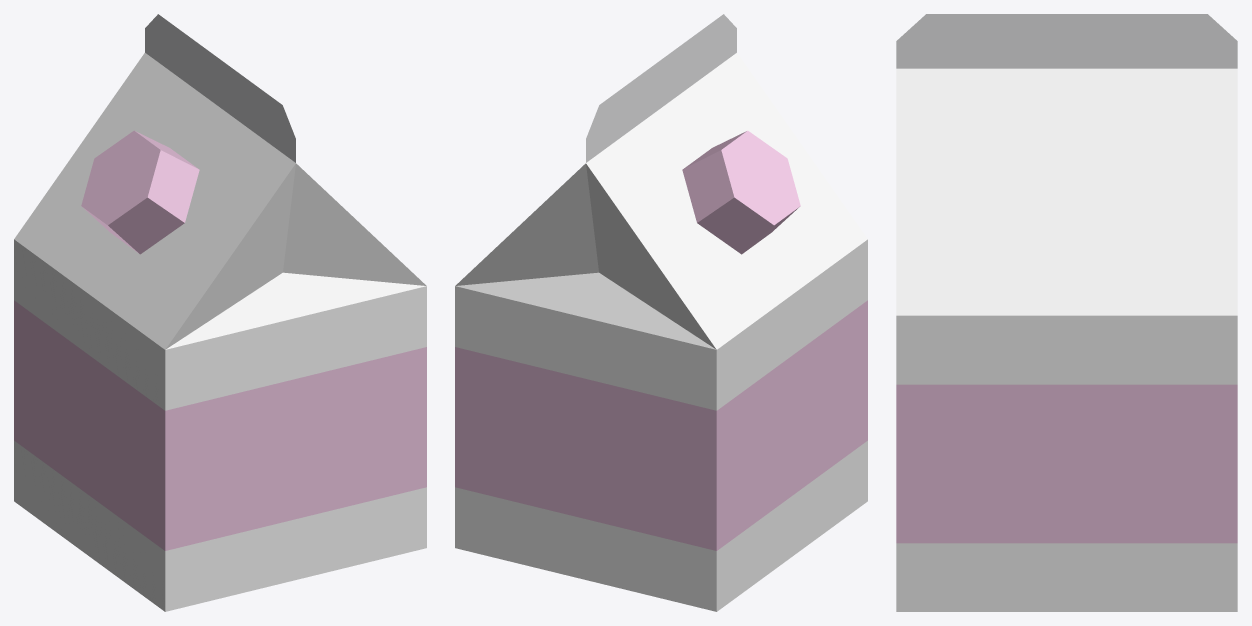
The model's file is cartonSmall.fbx.
3 views of the same model, side by side, from view 1: azimuth 30°, elevation 25°; view 2: azimuth 150°, elevation 25°; view 3: azimuth 270°, elevation 25° (orthographic). The views are drawn at different scales.
Parts seen in each view (by area): view 1: cartonSmall; view 2: cartonSmall; view 3: cartonSmall.
Boxes of the visible parts, box(x1,y1,x2,y2) form: cartonSmall: box(14, 14, 426, 611); cartonSmall: box(455, 14, 867, 611); cartonSmall: box(896, 14, 1237, 611).
Bounding box in the file's own units: 23 × 39.05 × 23.
